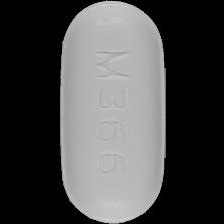55154-7261: (0, 0, 224, 224)
